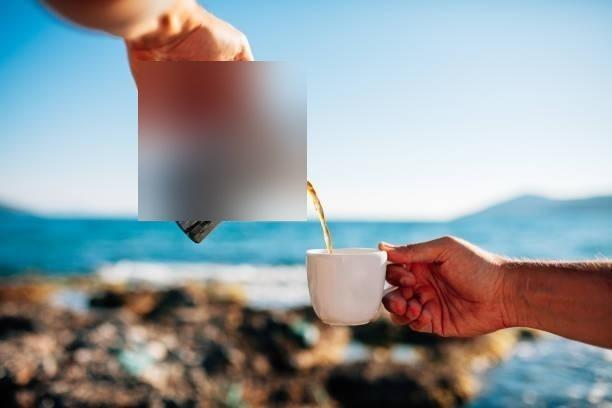cup-handle: (305, 246, 405, 327)
